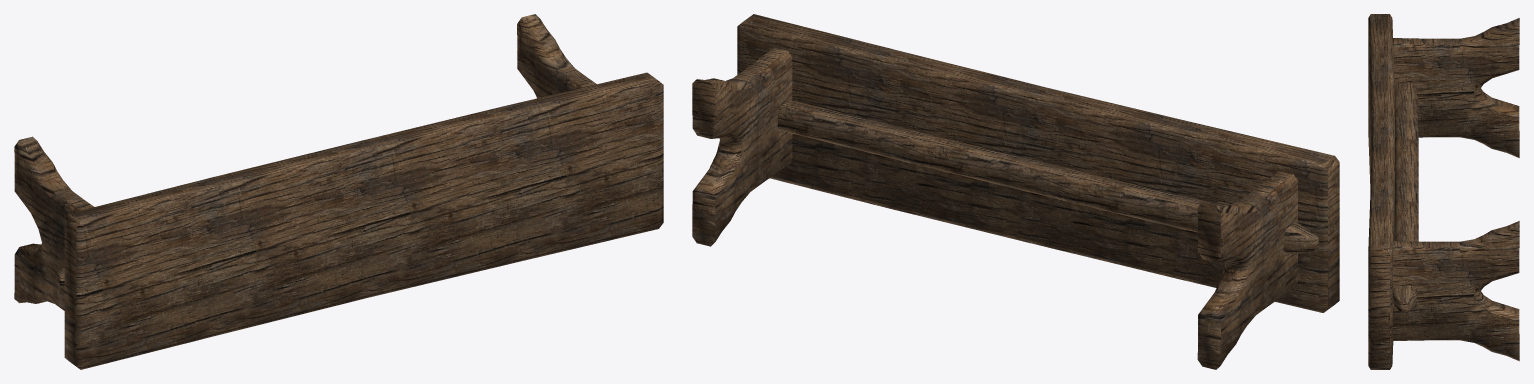
The model's file is holzbank.fbx.
3 views of the same model, side by side, from view 1: azimuth 30°, elevation 25°; view 2: azimuth 150°, elevation 25°; view 3: azimuth 270°, elevation 25° (orthographic). The views are drawn at different scales.
Parts seen in each view (by area): view 1: object; view 2: object; view 3: object.
Part boxes in pixels (x1,y1,x2,y2): object: (14,14,663,369); object: (692,14,1339,369); object: (1368,14,1519,369).
Bounding box in the file's own units: 60.87 × 16.17 × 16.42.
